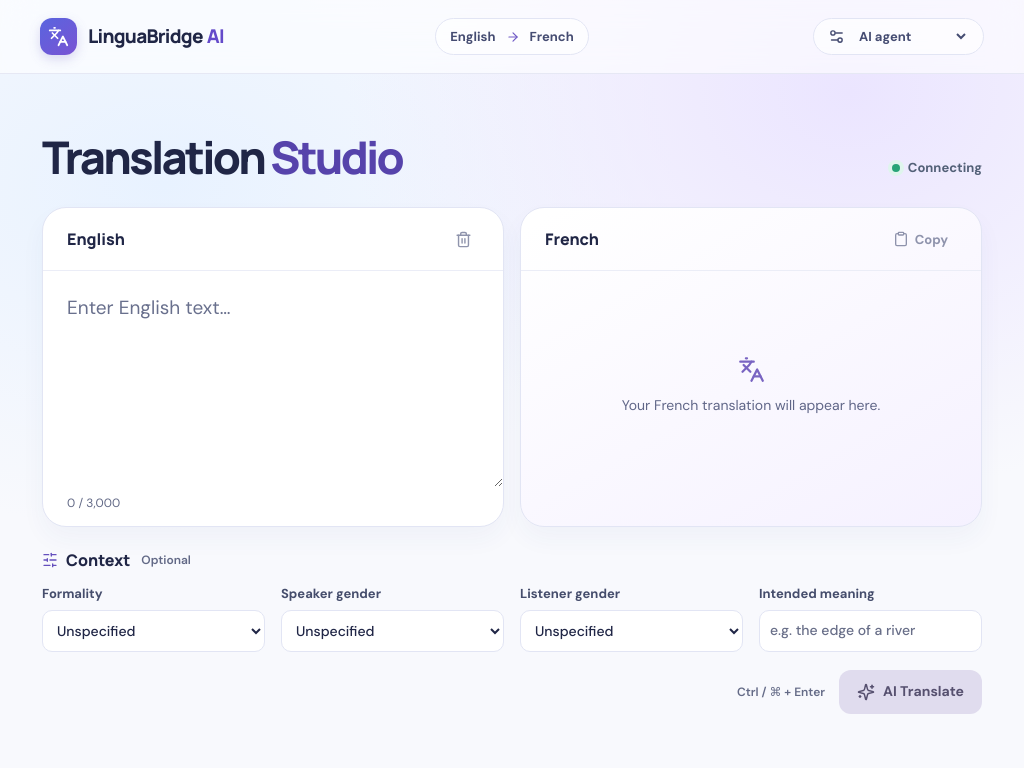
Test case: translation studio › withholds flagged content and removes stale insights when the source changes
The image size is (1024, 768).
Type "Hello there." into the text box labelled "English".
click(273, 380); type("Hello there.")  # box 43,272 -> 503,488
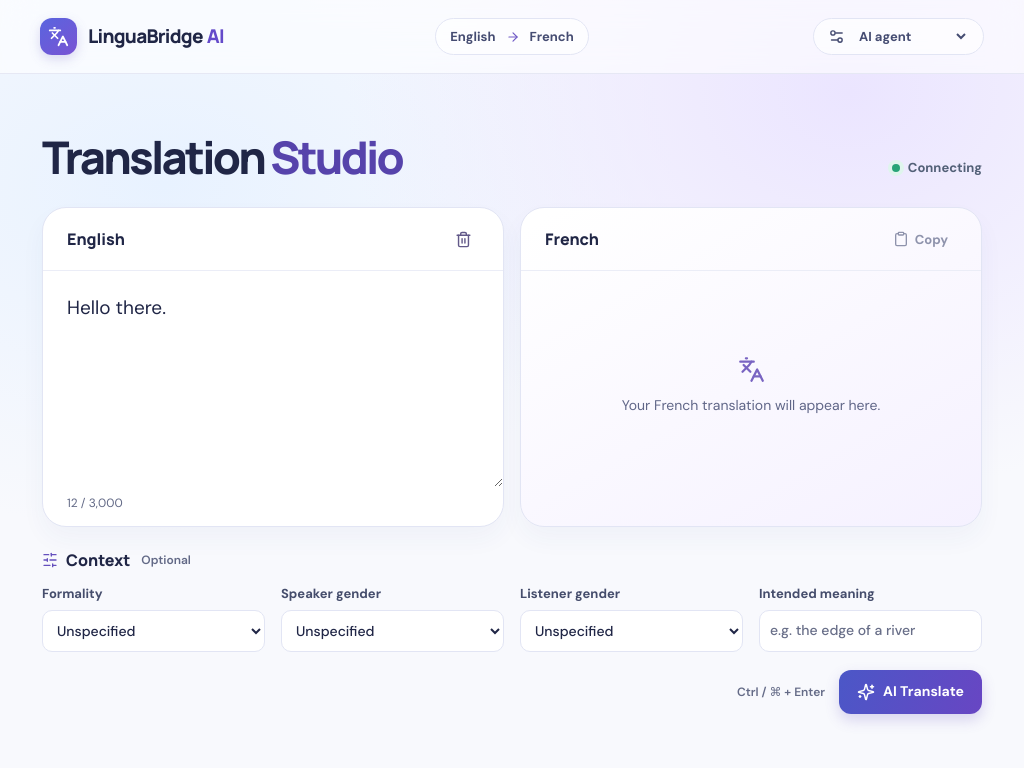
Click the button "AI Translate".
click(911, 692)  # box 839,670 -> 982,714
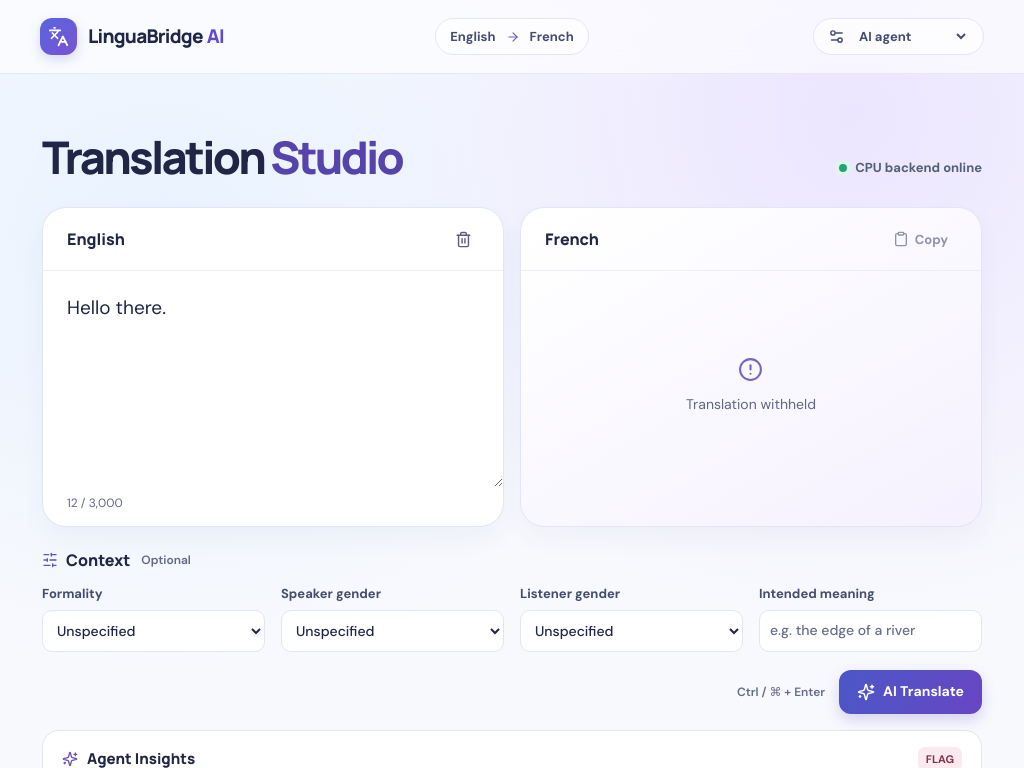
Check: the button "Copy" is disabled, box 884,223 -> 957,256
Check: the text "Translation withheld" is shown, box 686,394 -> 816,415
Click the button named "Clear English input".
click(464, 240)  # box 448,224 -> 479,255
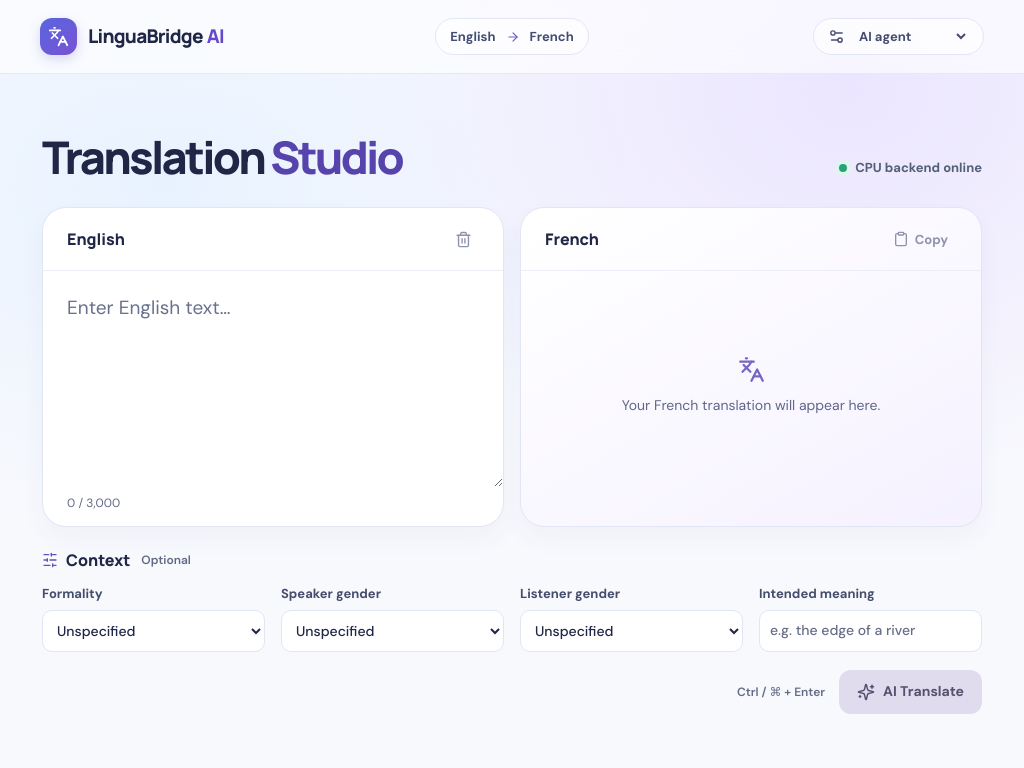
Check: the text box labelled "English" is empty, box 43,272 -> 503,488
